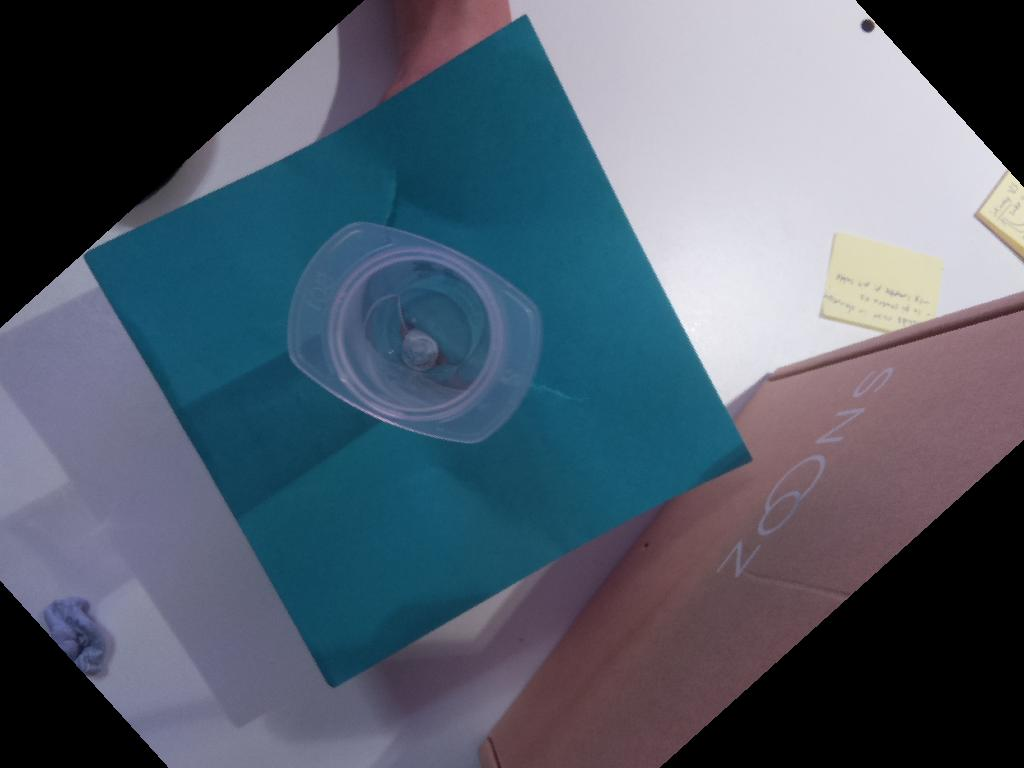clean: (287, 221, 543, 445)
